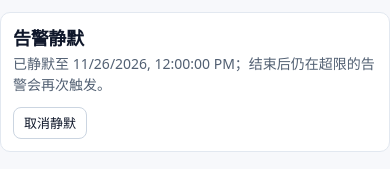
Test case: BudgetSilenceCard › shows the active window and clears it
Click the button "取消静默" at point(50, 123), box [13,107,87,139]
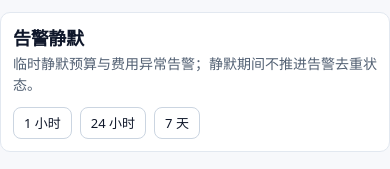
expect the text "临时静默" is shown: met, box [13,54,377,94]
